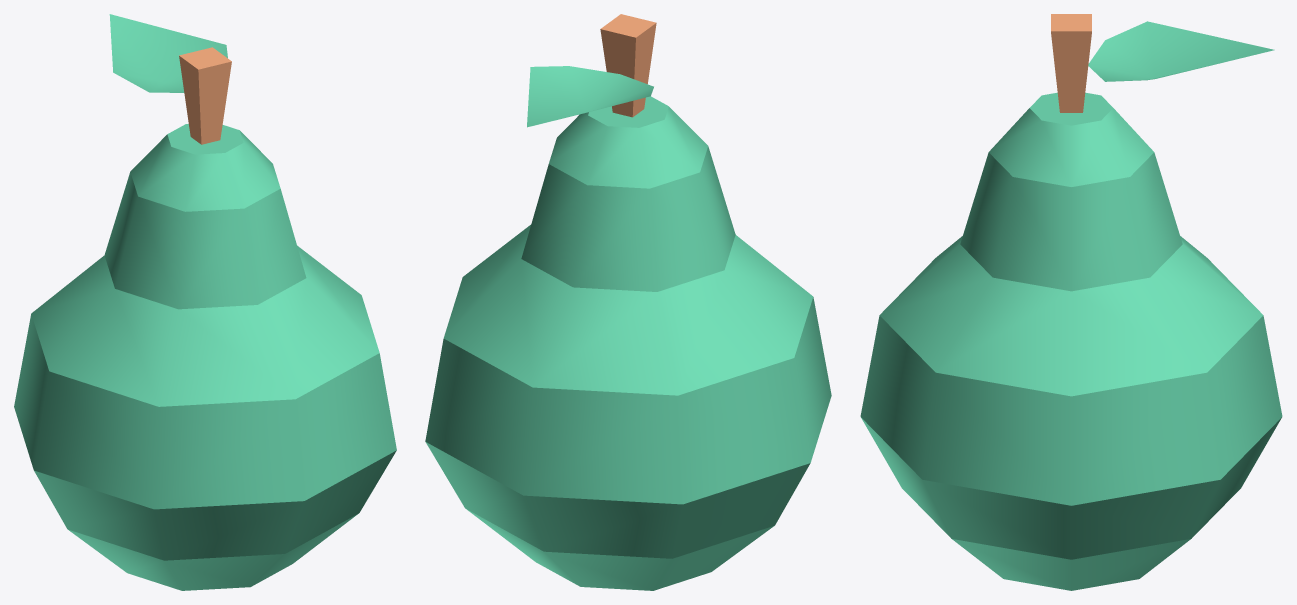
The model's file is pear.obj.
3 views of the same model, side by side, from view 1: azimuth 30°, elevation 25°; view 2: azimuth 150°, elevation 25°; view 3: azimuth 270°, elevation 25° (orthographic). The views are drawn at different scales.
Visible parts, largest first — view 1: pear; view 2: pear; view 3: pear.
Boxes of the visible parts, <box> form: pear: <box>14,14,396,590</box>; pear: <box>425,14,831,590</box>; pear: <box>860,14,1282,590</box>.
Size of the model in its own units: 0.1963 by 0.2708 by 0.1963.
